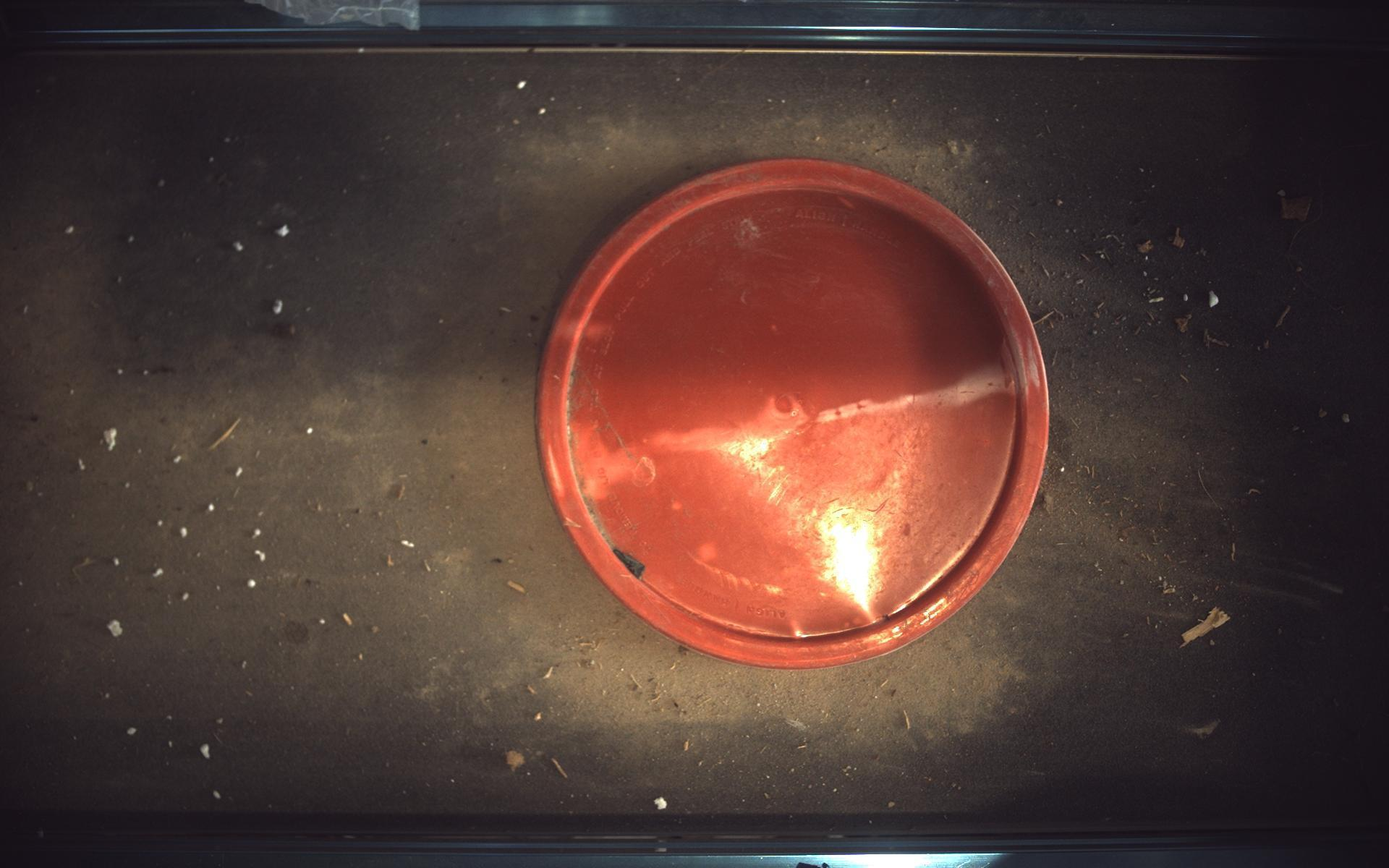plastic: (538, 158, 1051, 669)
